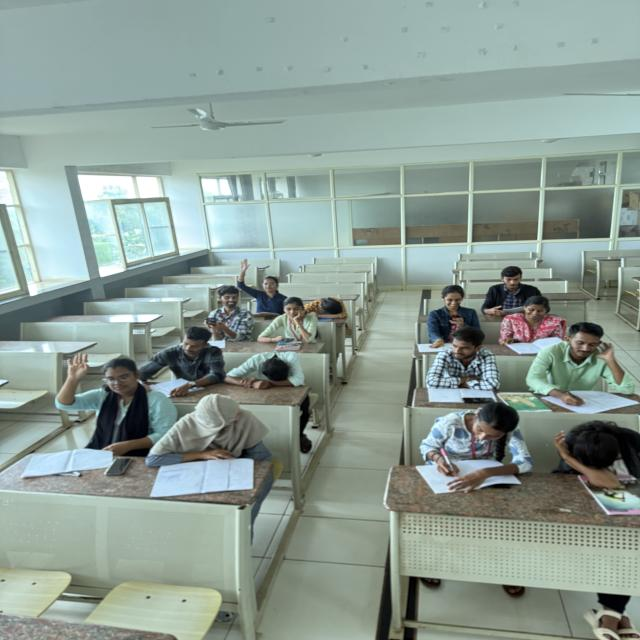Hand Rising: (54, 349, 171, 455), (231, 253, 286, 317)
Reading: (480, 264, 544, 317)
Sleeping: (222, 349, 322, 396), (300, 290, 356, 326)
Using Phone: (423, 282, 487, 343), (263, 293, 321, 351), (198, 282, 251, 343)
Writing: (416, 401, 535, 486), (521, 319, 623, 409), (127, 324, 230, 396)
